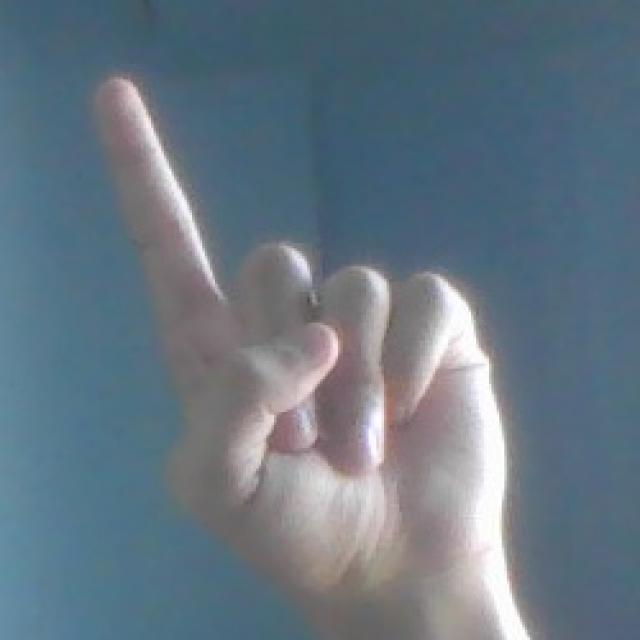Numeric-1: (81, 70, 502, 614)
